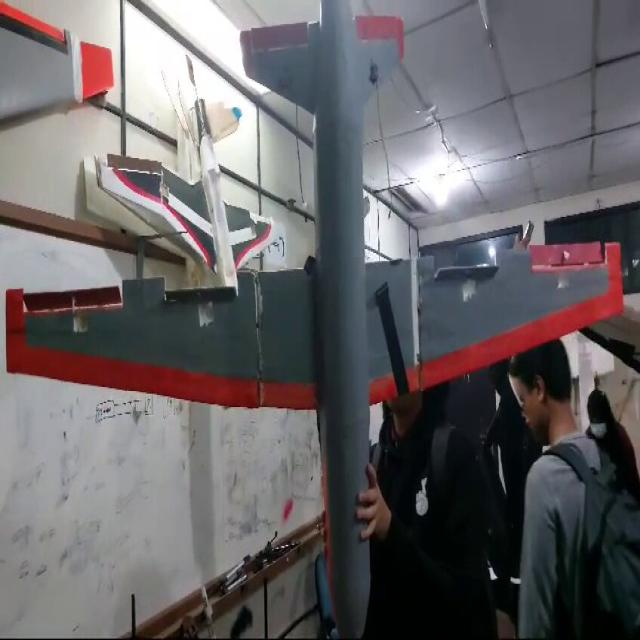plane: (2, 0, 626, 637)
